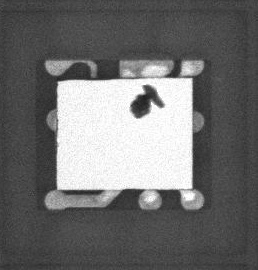DIE_INK: (123, 88, 158, 125)
